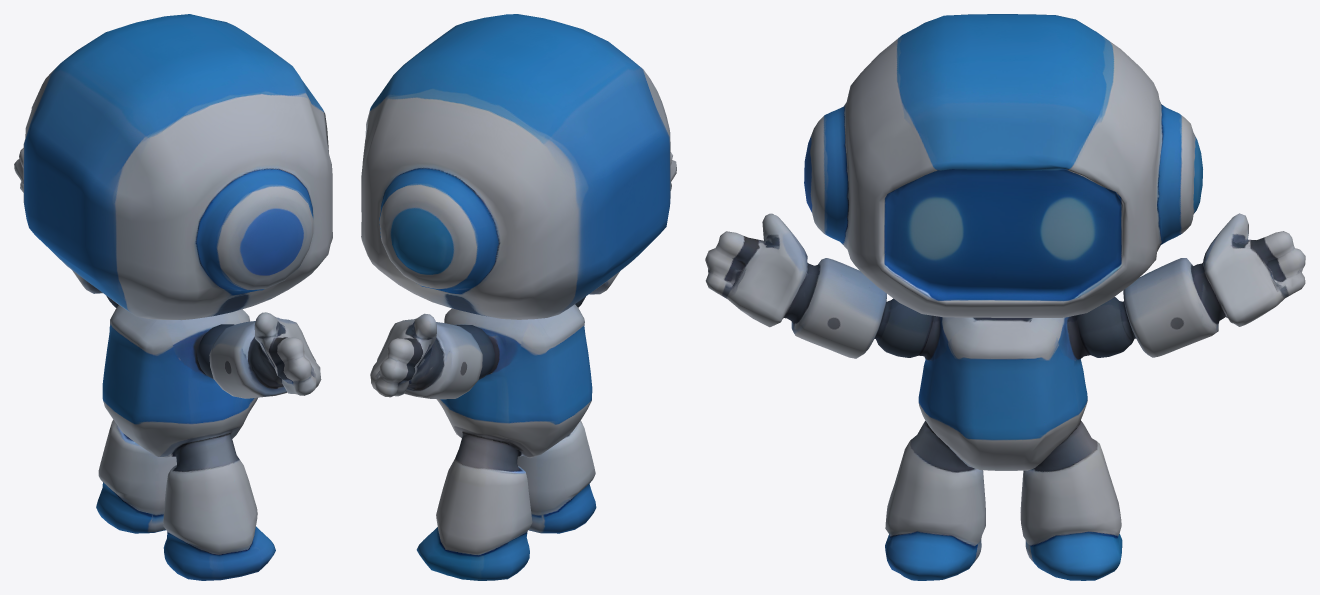
File: SM_Chr_RobotCitizen_01.glb
3 views of the same model, side by side, from view 1: azimuth 30°, elevation 25°; view 2: azimuth 150°, elevation 25°; view 3: azimuth 270°, elevation 25° (orthographic). The views are drawn at different scales.
Visible parts, largest first — view 1: tripo_node_a2c71017; view 2: tripo_node_a2c71017; view 3: tripo_node_a2c71017.
Part boxes in pixels (left/top/right/bottom): tripo_node_a2c71017: left=14, top=14, right=332, bottom=580; tripo_node_a2c71017: left=361, top=14, right=676, bottom=580; tripo_node_a2c71017: left=705, top=14, right=1305, bottom=580.
Size of the model in its own units: 47.89 by 96.59 by 99.76.
Materials: 1 (1 with a texture image).
